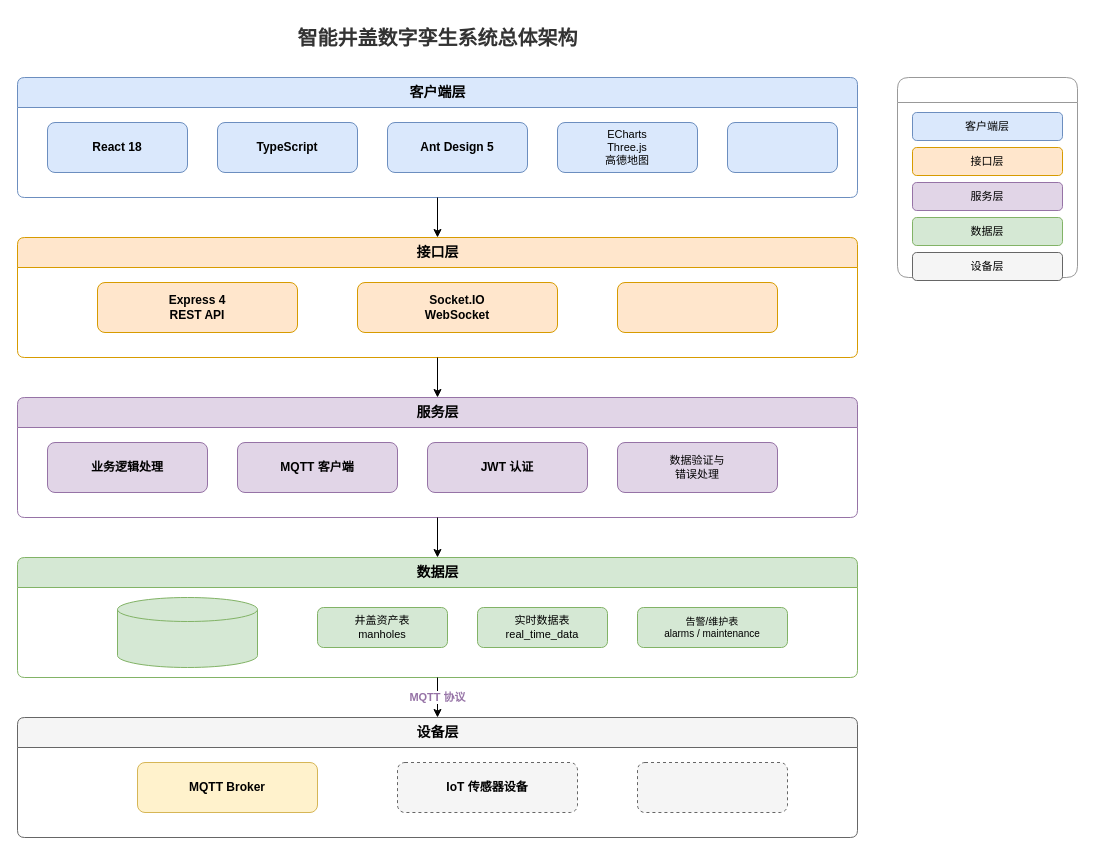
The diagram is 1095 pixels wide and 855 high, and some of its shapes have lost their labels. The shapes that lost their labels are listed below. From the top down, each one's box as (x1, y1, x2, y2) in pixels, then its label:
(726, 122, 838, 172): Socket.IO Client
(896, 76, 1078, 278): 图例
(616, 282, 778, 332): JSON 数据格式
(116, 596, 258, 668): SQLite (better-sqlite3)
(636, 762, 788, 812): 水位 / 气体 / 温湿度 / 倾斜
